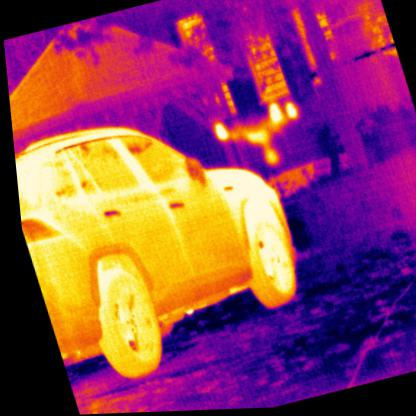drone: (205, 98, 308, 178)
